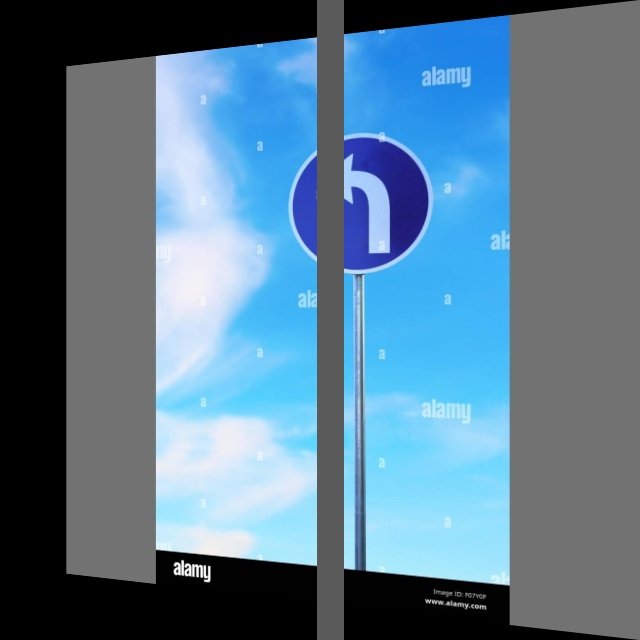Compulsory_Turn_Left_Ahead: (294, 126, 429, 279)
